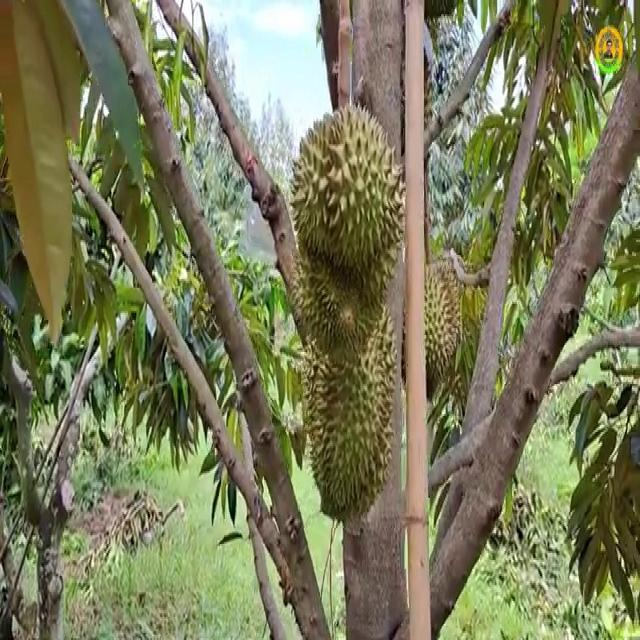durian: (286, 95, 408, 372), (298, 292, 396, 528), (395, 244, 466, 414)
